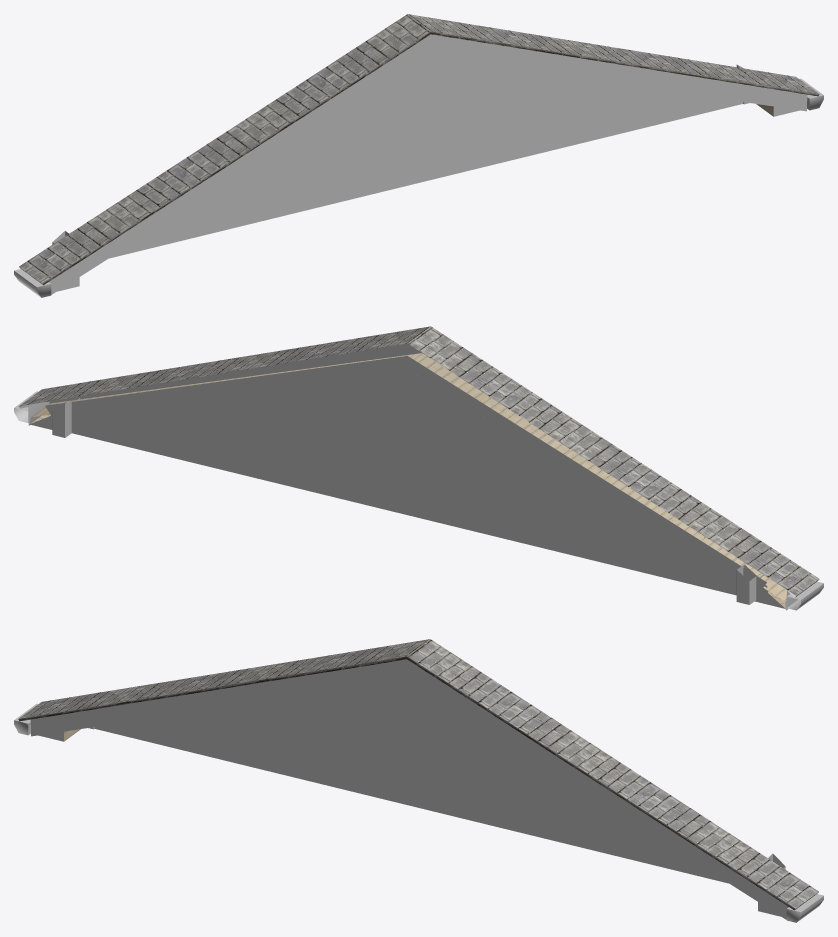
File: RoofLow_End_7x.FBX
3 renders of one model, top to bottom at view 1: azimuth 30°, elevation 25°; view 2: azimuth 150°, elevation 25°; view 3: azimuth 330°, elevation 25°, orthographic.
Parts seen in each view (by area): view 1: RoofLow_End_7x; view 2: RoofLow_End_7x; view 3: RoofLow_End_7x.
Boxes of the visible parts, <box> form: RoofLow_End_7x: <box>14,14,823,297</box>; RoofLow_End_7x: <box>14,326,823,610</box>; RoofLow_End_7x: <box>14,639,823,922</box>.
Bounding box in the file's own units: 794 × 168 × 52.41.
